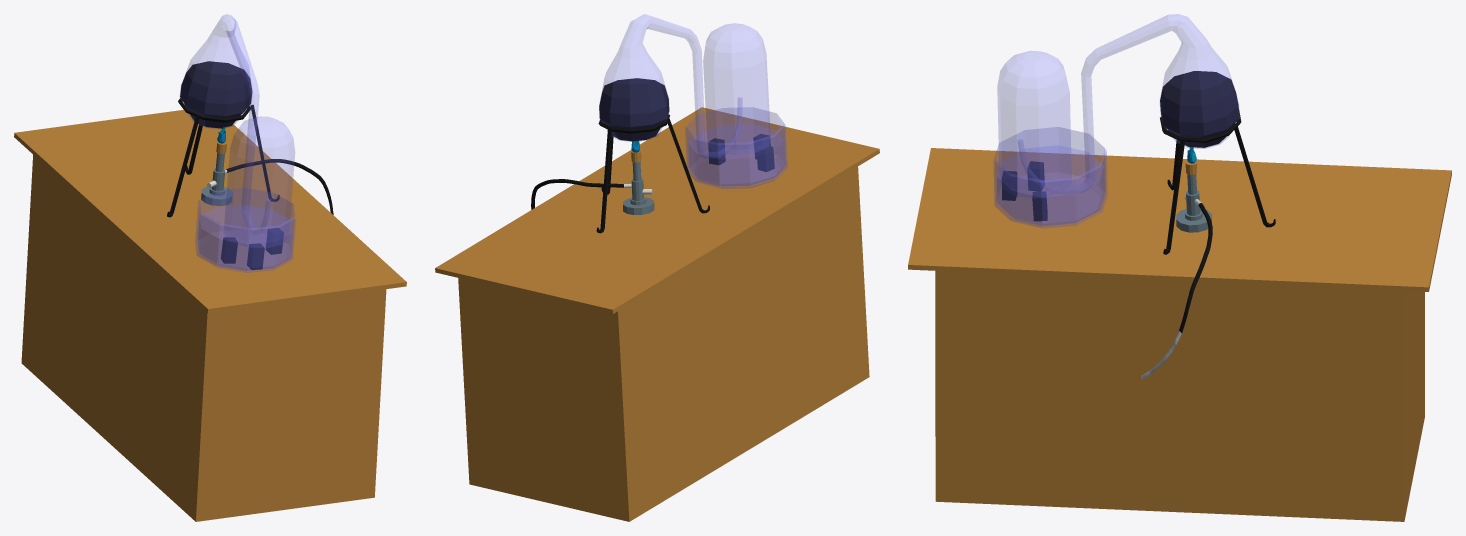
3 views of the same model, side by side, from view 1: azimuth 30°, elevation 25°; view 2: azimuth 150°, elevation 25°; view 3: azimuth 270°, elevation 25° (orthographic). The views are drawn at different scales.
Parts seen in each view (by area): view 1: node_MeshObject-642016256-PolyPaper21, node_MeshObject-1214095360-PolyGlass24; view 2: node_MeshObject-642016256-PolyPaper21, node_MeshObject-1214095360-PolyGlass24; view 3: node_MeshObject-642016256-PolyPaper21, node_MeshObject-1214095360-PolyGlass24.
Part boxes in pixels (bbox=[...]): node_MeshObject-642016256-PolyPaper21: bbox=[14, 61, 406, 521]; node_MeshObject-1214095360-PolyGlass24: bbox=[180, 14, 295, 272]; node_MeshObject-642016256-PolyPaper21: bbox=[435, 78, 879, 521]; node_MeshObject-1214095360-PolyGlass24: bbox=[599, 14, 787, 188]; node_MeshObject-642016256-PolyPaper21: bbox=[908, 71, 1451, 521]; node_MeshObject-1214095360-PolyGlass24: bbox=[993, 14, 1239, 228].
Size of the model in its own units: 1.12 by 1.87 by 1.97.
